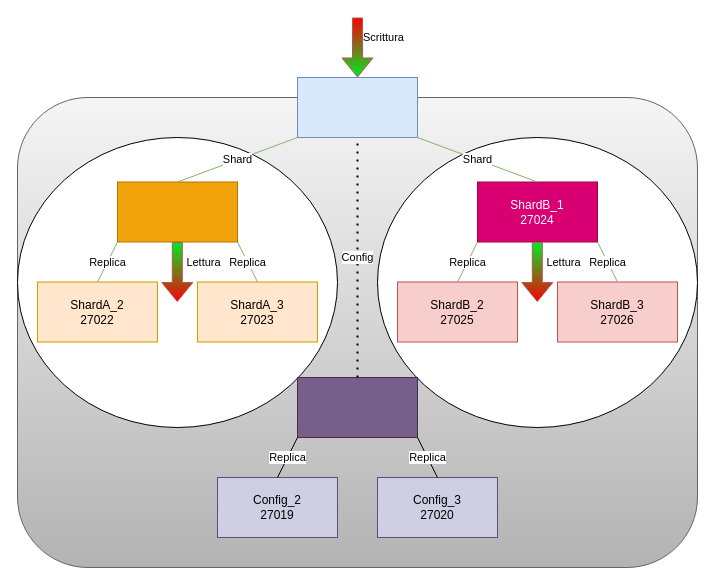
This 715x585 diagram has some shape labels left out. The centre of each missing label's shape, as x and y in pixels:
"Config_1 27018" goes at point 357,407.
"MongoS 27030" goes at point 357,107.
"ShardA_1 27021" goes at point 177,211.
